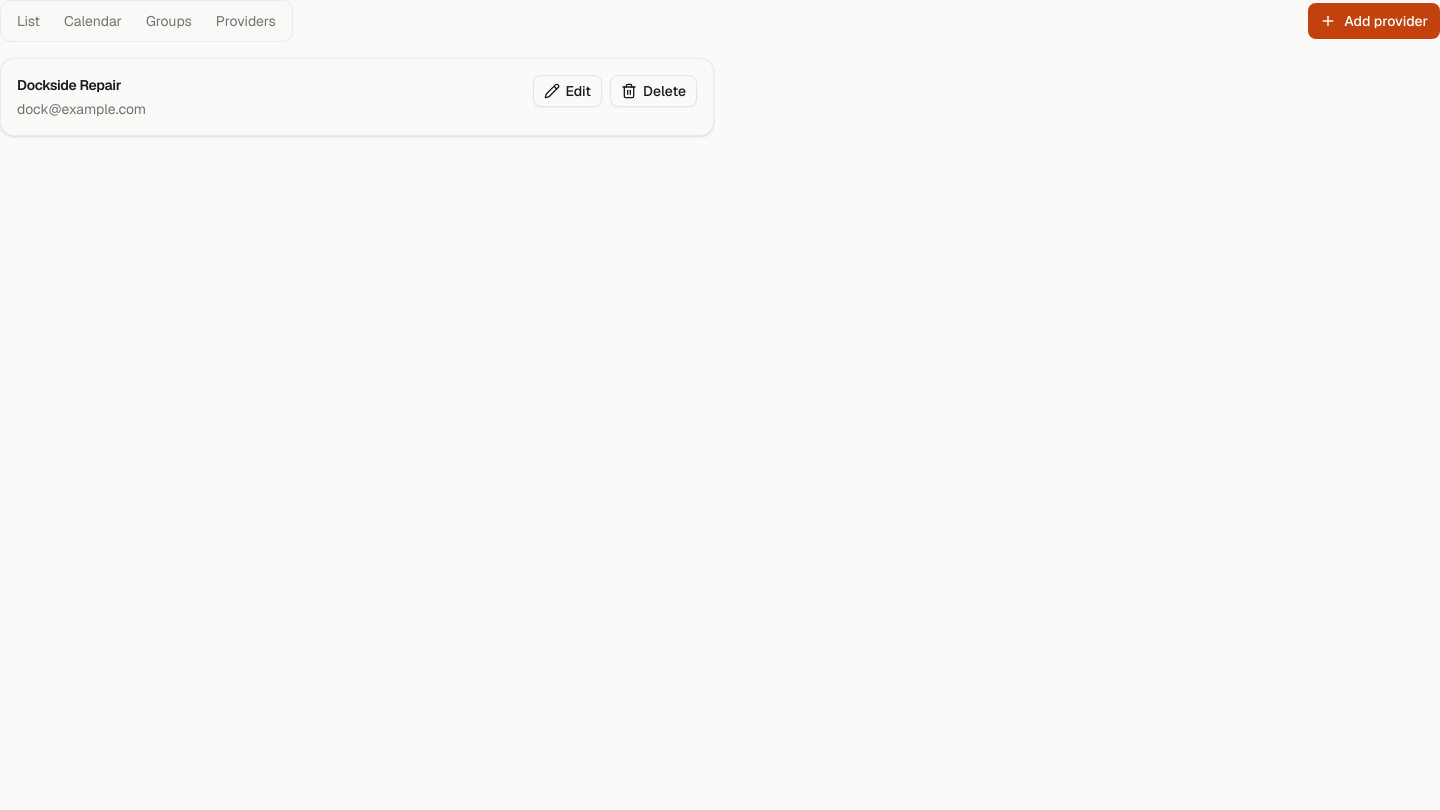
ServiceProvidersPageClient › renders provider list and opens create dialog for admins
This screenshot has width=1440, height=810.
expect the heading "Dockside Repair" is shown: met, box [17,76,121,94]
expect the text "dock@example.com" is shown: met, box [17,99,146,119]
Click the button "Add provider". click: (1374, 21)
box: [1308,3,1439,39]
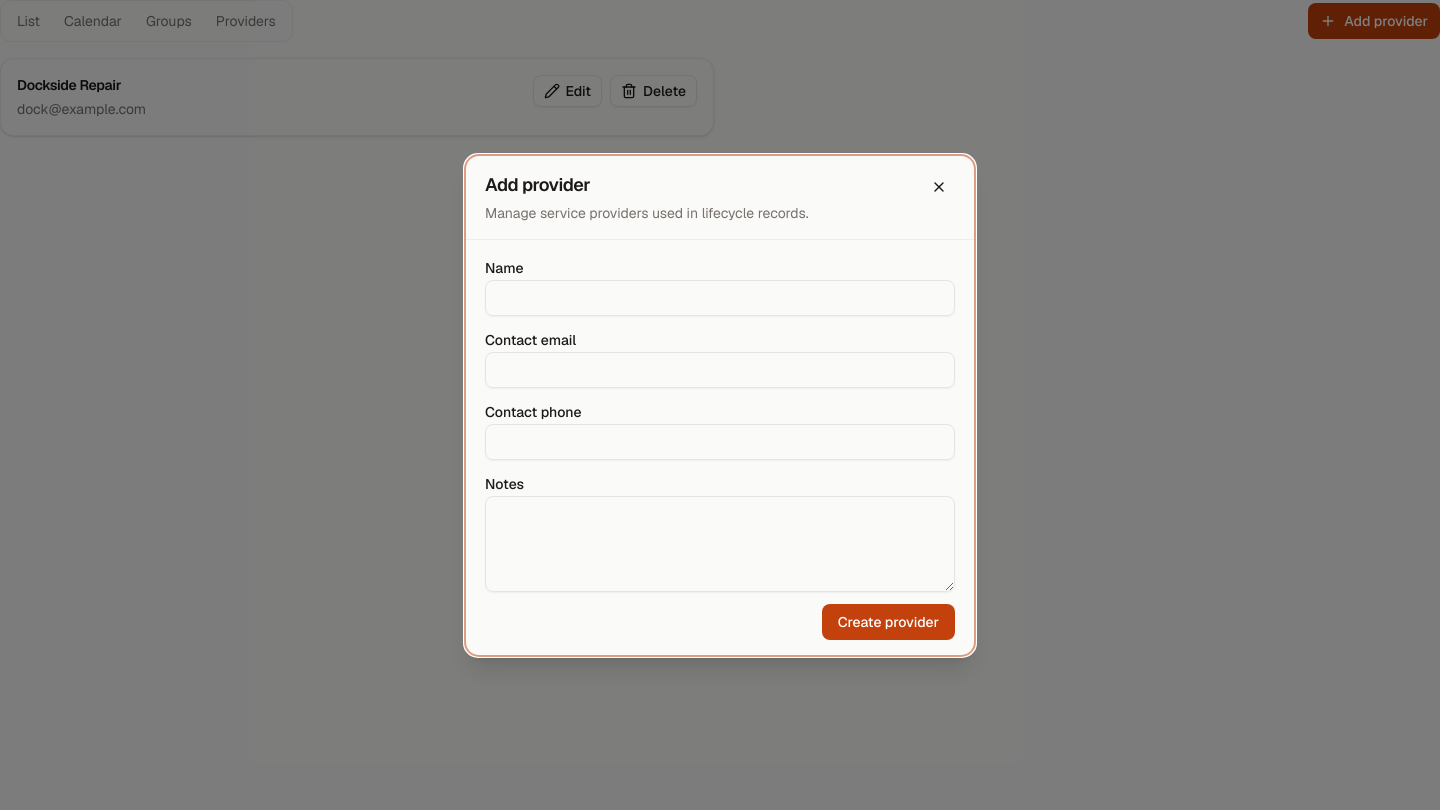
expect the heading "Add provider" is shown: met, box [485,172,590,196]
